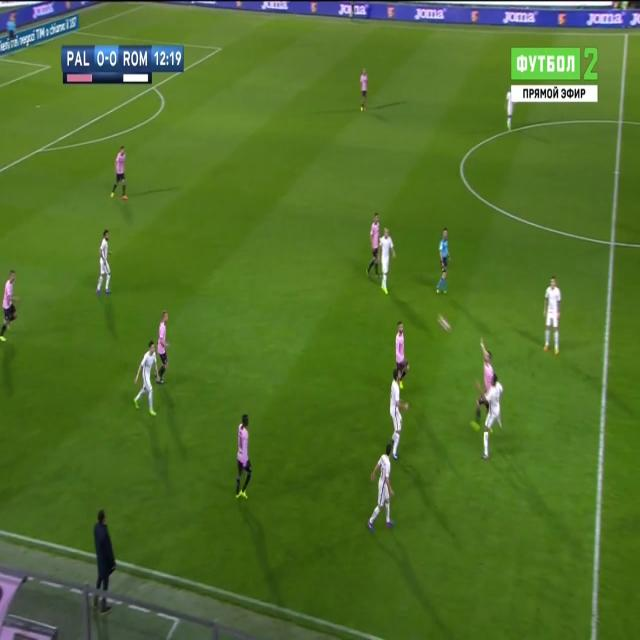Ball: (434, 310, 454, 340)
Player: (363, 441, 394, 536), (130, 341, 160, 423), (482, 370, 506, 466), (387, 368, 411, 460), (233, 410, 255, 505), (472, 336, 494, 431), (543, 271, 563, 360), (1, 266, 20, 350), (107, 141, 130, 208), (95, 226, 115, 302), (155, 305, 173, 386), (363, 212, 383, 281), (379, 223, 397, 298), (394, 319, 412, 376), (357, 64, 372, 116), (504, 87, 516, 131)
Referee: (432, 226, 453, 302)
